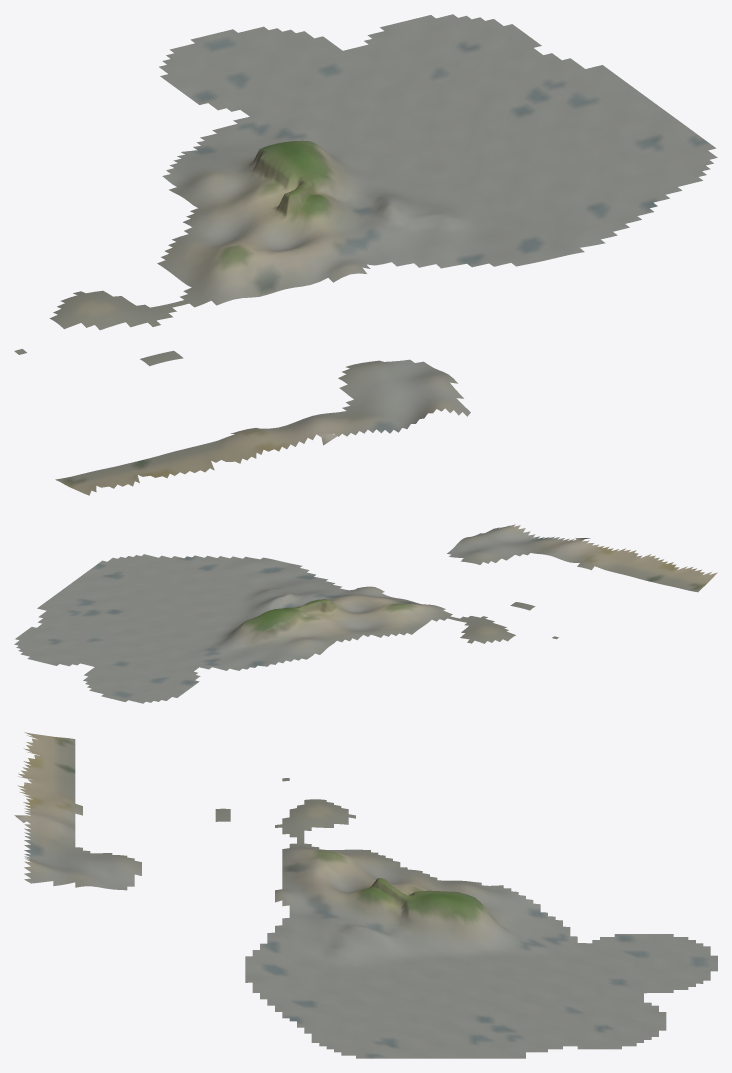
Rendered from coast_tile_x2z1.glb.
The picture shows the model from 3 angles, top to bottom: view 1: azimuth 30°, elevation 25°; view 2: azimuth 150°, elevation 25°; view 3: azimuth 270°, elevation 25°; orthographic projection. The views are drawn at different scales.
Parts seen in each view (by area): view 1: coast_tile_x2z1; view 2: coast_tile_x2z1; view 3: coast_tile_x2z1.
Boxes of the visible parts, left/top/right/bottom form: coast_tile_x2z1: left=14, top=14, right=717, bottom=495; coast_tile_x2z1: left=14, top=524, right=717, bottom=703; coast_tile_x2z1: left=14, top=732, right=717, bottom=1058.
Size of the model in its own units: 594 by 28.56 by 572.
